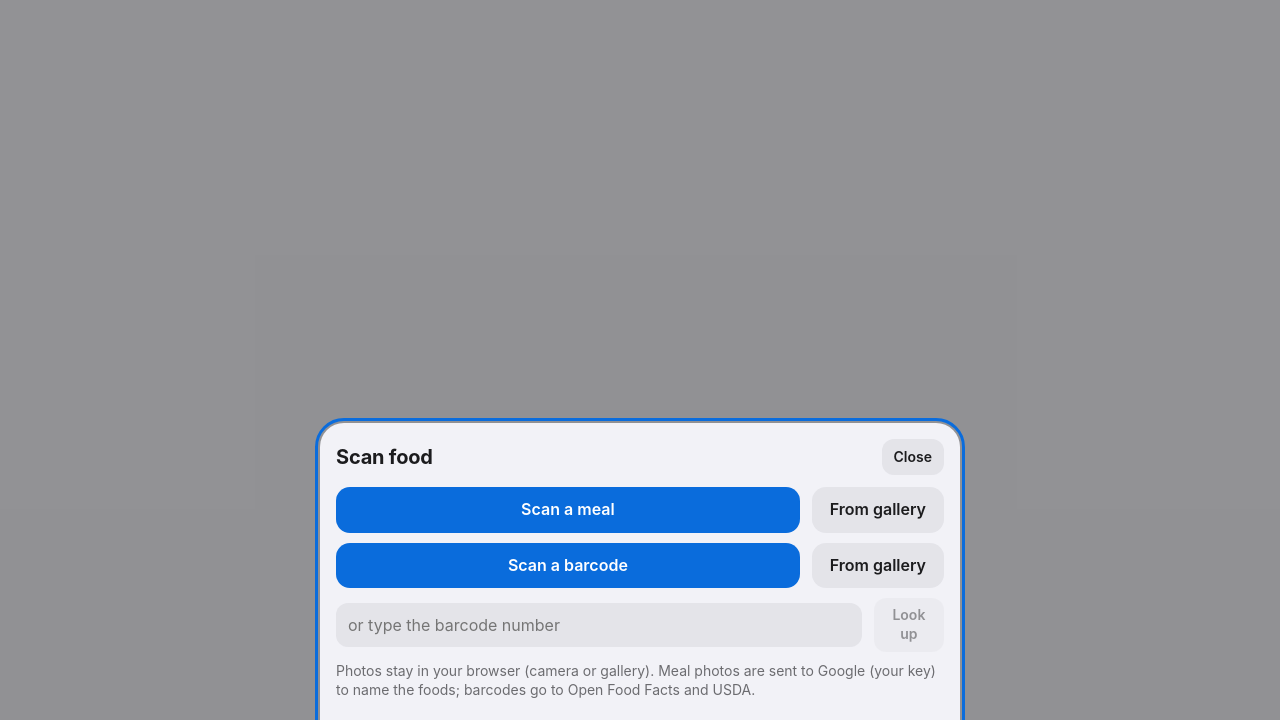
Test: ScanSheet › says so for an unknown barcode and when offline
This screenshot has width=1280, height=720.
Type "9556001234567" into the field labelled "barcode number" at (599,625), box [336, 603, 862, 647]
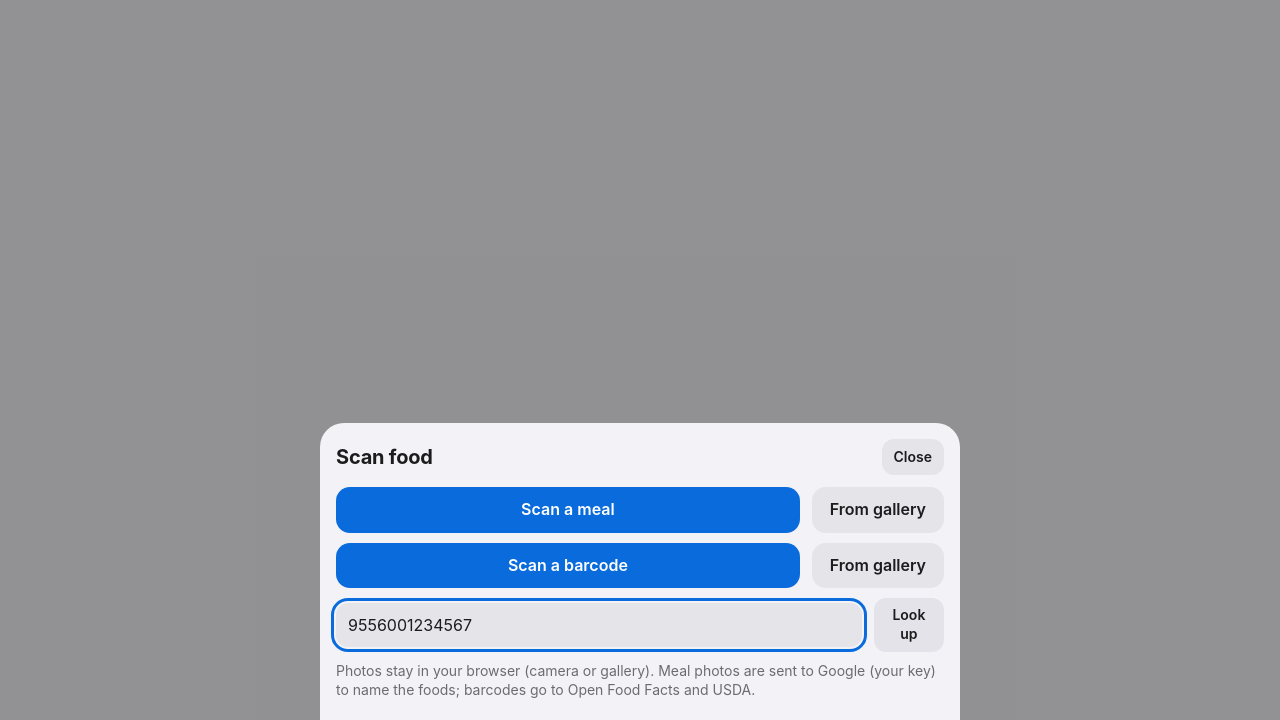
Click the button "Look up" at (909,625), box [874, 598, 944, 652]
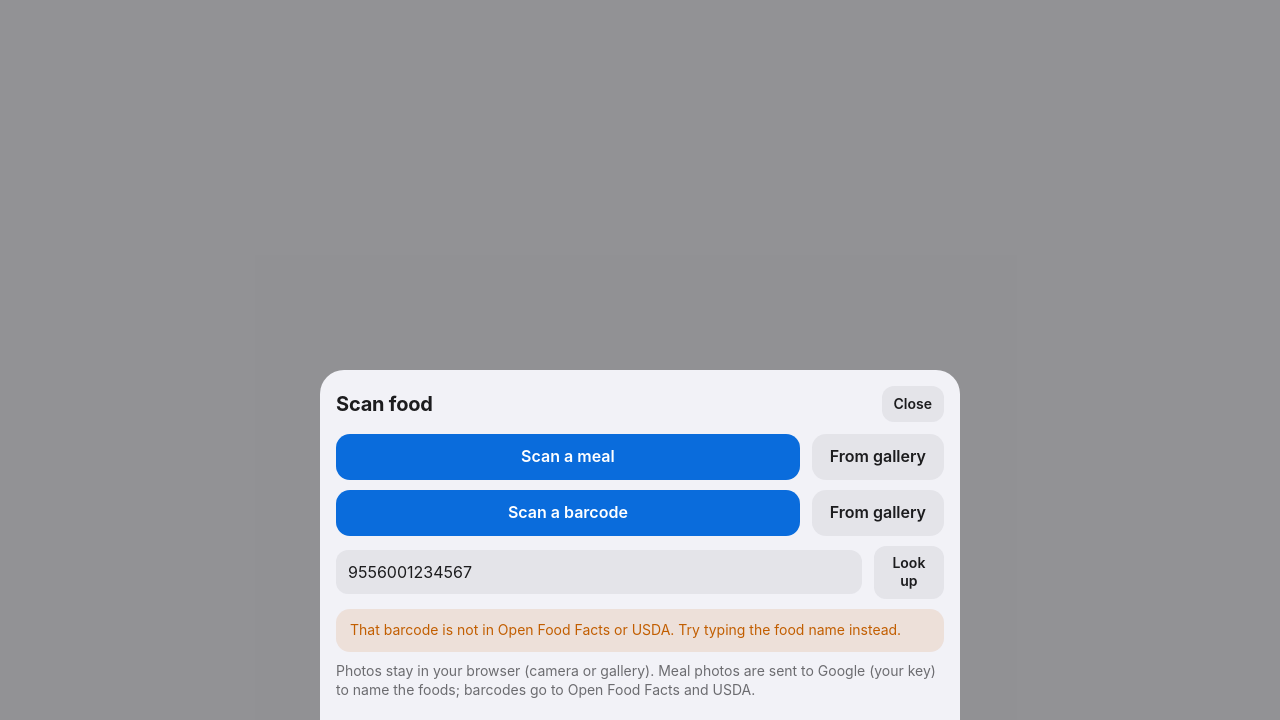
expect the message shows "not in Open Food Facts": met, box [350, 621, 901, 638]
